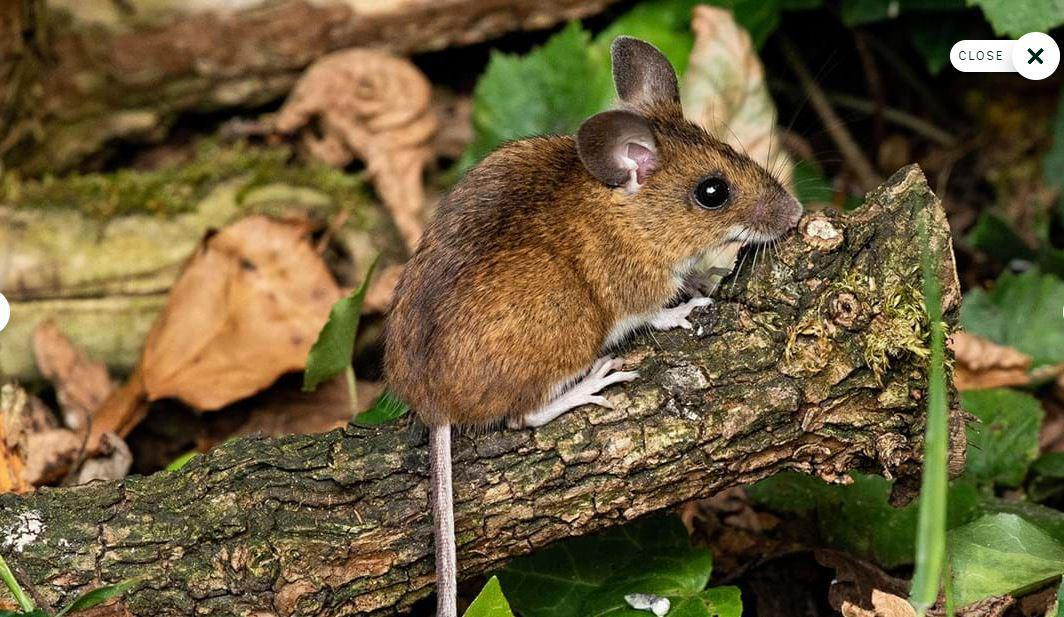rat: (384, 34, 804, 617)
